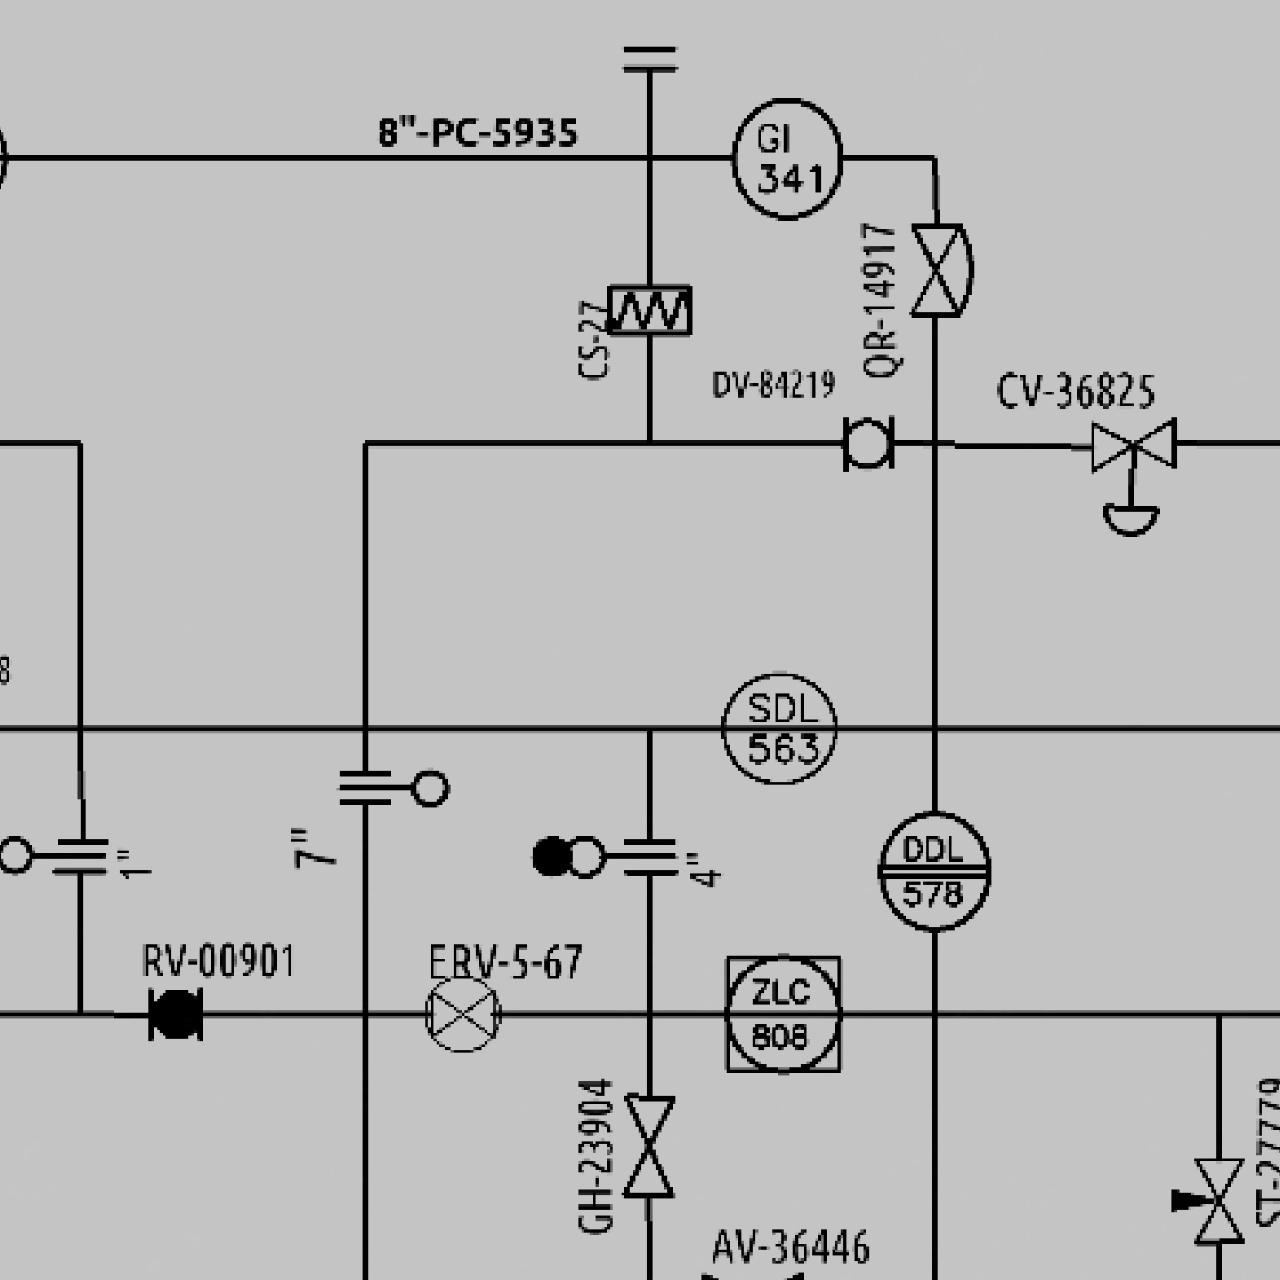Control-Panel: (866, 806, 994, 935)
